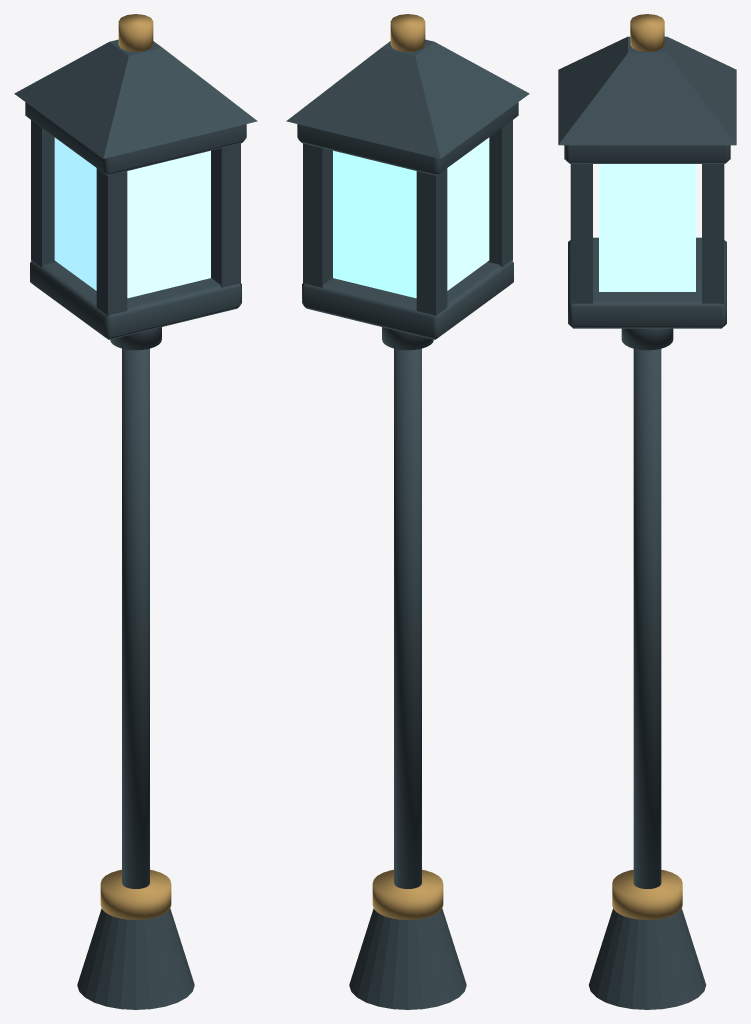
The model's file is street_lamp_cool.glb.
3 renders of one model, left to right at view 1: azimuth 30°, elevation 25°; view 2: azimuth 150°, elevation 25°; view 3: azimuth 270°, elevation 25°, orthographic.
Parts seen in each view (by area): view 1: Four sided lantern roof, Cast iron post_008m, Luminous pane_front_back, Flared cast foot, Lantern lower tray, Luminous pane_left_right, Lantern corner frame, Lantern corner frame.002, Lantern upper cornice, Lantern corner frame.001, Foot brass collar, Roof brass button (+1 smaller); view 2: Four sided lantern roof, Cast iron post_008m, Luminous pane_front_back.001, Flared cast foot, Lantern lower tray, Luminous pane_left_right, Lantern corner frame.001, Lantern corner frame.003, Lantern upper cornice, Lantern corner frame, Foot brass collar, Roof brass button (+1 smaller); view 3: Four sided lantern roof, Cast iron post_008m, Luminous pane_left_right.001, Flared cast foot, Lantern lower tray, Lantern corner frame.002, Lantern corner frame.003, Lantern upper cornice, Foot brass collar, Roof brass button, Post shoulder.
Part boxes in pixels (box(x1,y1,x2,y2)): Four sided lantern roof: box(14, 39, 257, 158); Cast iron post_008m: box(122, 348, 149, 888); Luminous pane_front_back: box(127, 150, 210, 298); Flared cast foot: box(77, 908, 194, 1009); Lantern lower tray: box(30, 260, 241, 339); Luminous pane_left_right: box(54, 137, 96, 290); Lantern corner frame: box(96, 168, 127, 316); Lantern corner frame.002: box(211, 143, 240, 287); Lantern upper cornice: box(25, 102, 246, 175); Lantern corner frame.001: box(31, 120, 55, 267); Foot brass collar: box(100, 869, 171, 919); Roof brass button: box(118, 14, 153, 51); Four sided lantern roof: box(286, 39, 529, 158); Cast iron post_008m: box(394, 348, 421, 888); Luminous pane_front_back.001: box(333, 150, 416, 298); Flared cast foot: box(349, 908, 466, 1009); Lantern lower tray: box(302, 260, 513, 339); Luminous pane_left_right: box(447, 137, 489, 290); Lantern corner frame.001: box(416, 168, 447, 316); Lantern corner frame.003: box(303, 143, 332, 287); Lantern upper cornice: box(297, 102, 518, 175); Lantern corner frame: box(488, 120, 512, 267); Foot brass collar: box(372, 869, 443, 919); Roof brass button: box(390, 14, 425, 51); Four sided lantern roof: box(558, 36, 736, 145); Cast iron post_008m: box(633, 349, 661, 888); Luminous pane_left_right.001: box(599, 164, 695, 291); Flared cast foot: box(588, 908, 706, 1009); Lantern lower tray: box(568, 237, 726, 328); Lantern corner frame.002: box(570, 164, 592, 304); Lantern corner frame.003: box(702, 164, 724, 304); Lantern upper cornice: box(564, 145, 730, 163); Foot brass collar: box(612, 869, 682, 919); Roof brass button: box(630, 14, 664, 51); Post shoulder: box(621, 328, 673, 350).
Bounding box in the file's own units: 0.5162 × 3.08 × 0.5162.
